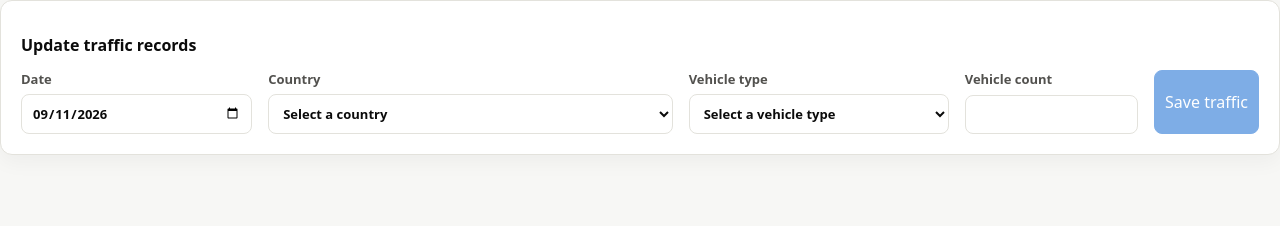
Test: RecordTrafficForm › surfaces a rejected write instead of a success line
Select "United States" in the dropdown labelled "Country" at (470, 114), box [268,94,673,134]
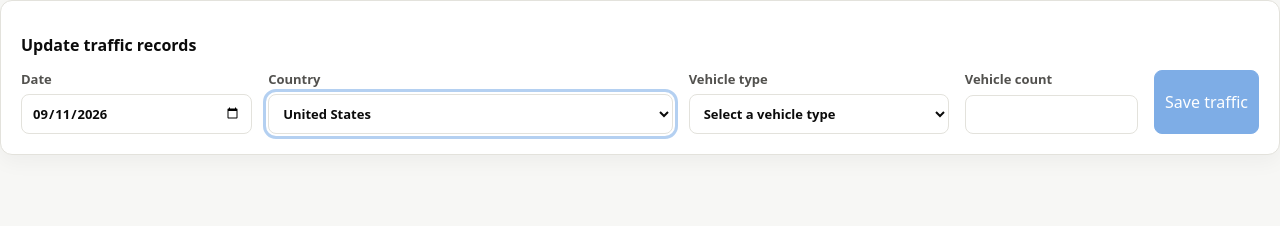
Select "Car" in the dropdown labelled "Vehicle type" at (819, 114), box [689,94,949,134]
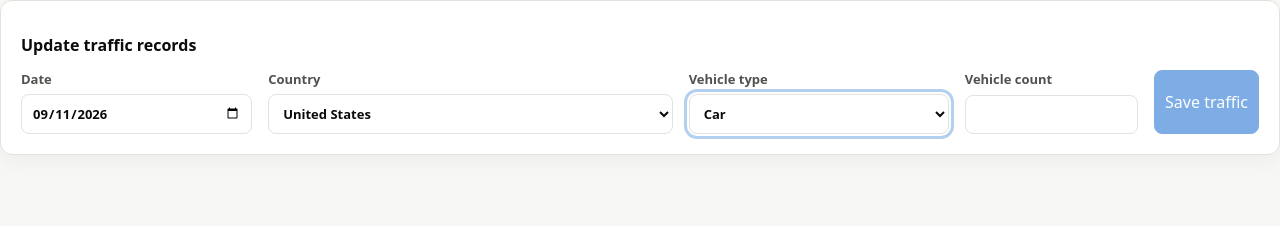
Type "120" into the number field labelled "Vehicle count" at (1051, 114), box [965,94,1138,134]
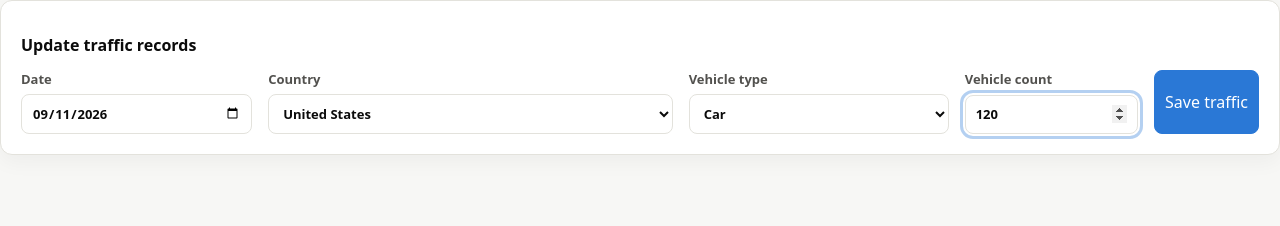
Click the button "Save traffic" at (1207, 102), box [1154,70,1259,134]
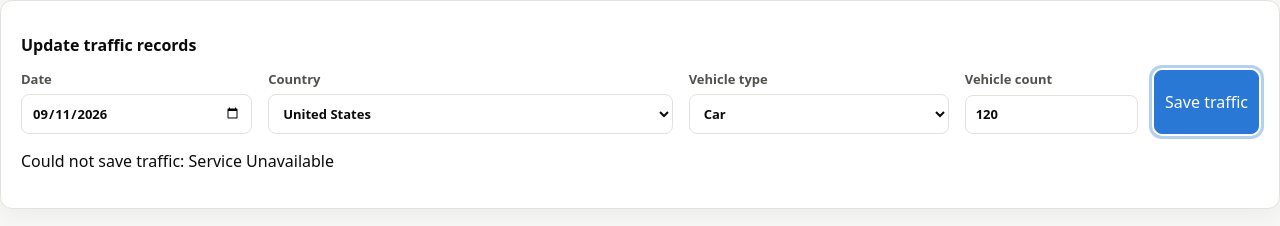
Check: the message reads "Could not save traffic: Service Unavailable", box [21,150,334,172]
